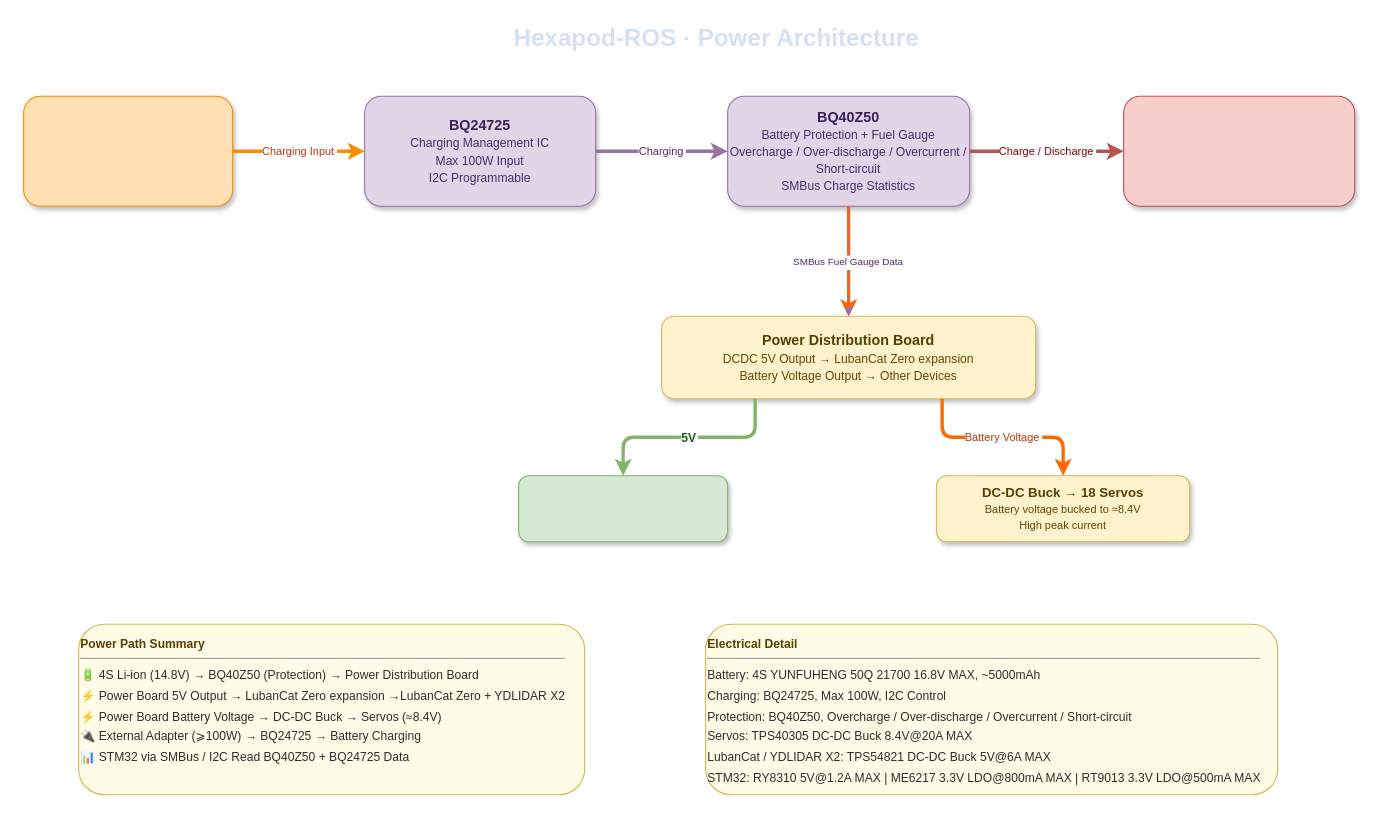
This 1381x814 diagram has some shape labels left out. The centre of each missing label's shape, as x and y in pixels:
4S Li-ion Battery 14.8V nominal 21700 Cell ~5000 mAh: the point at 1239,152
External Power Input PD Adapter ⩾ 100W: the point at 128,152
LubanCat Zero/YDLIDAR X2 5V Power Supply: the point at 623,509
